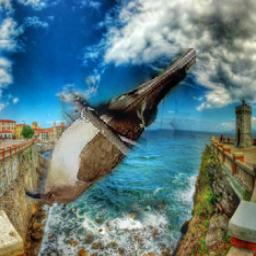Cuckoo: (25, 49, 196, 204)
